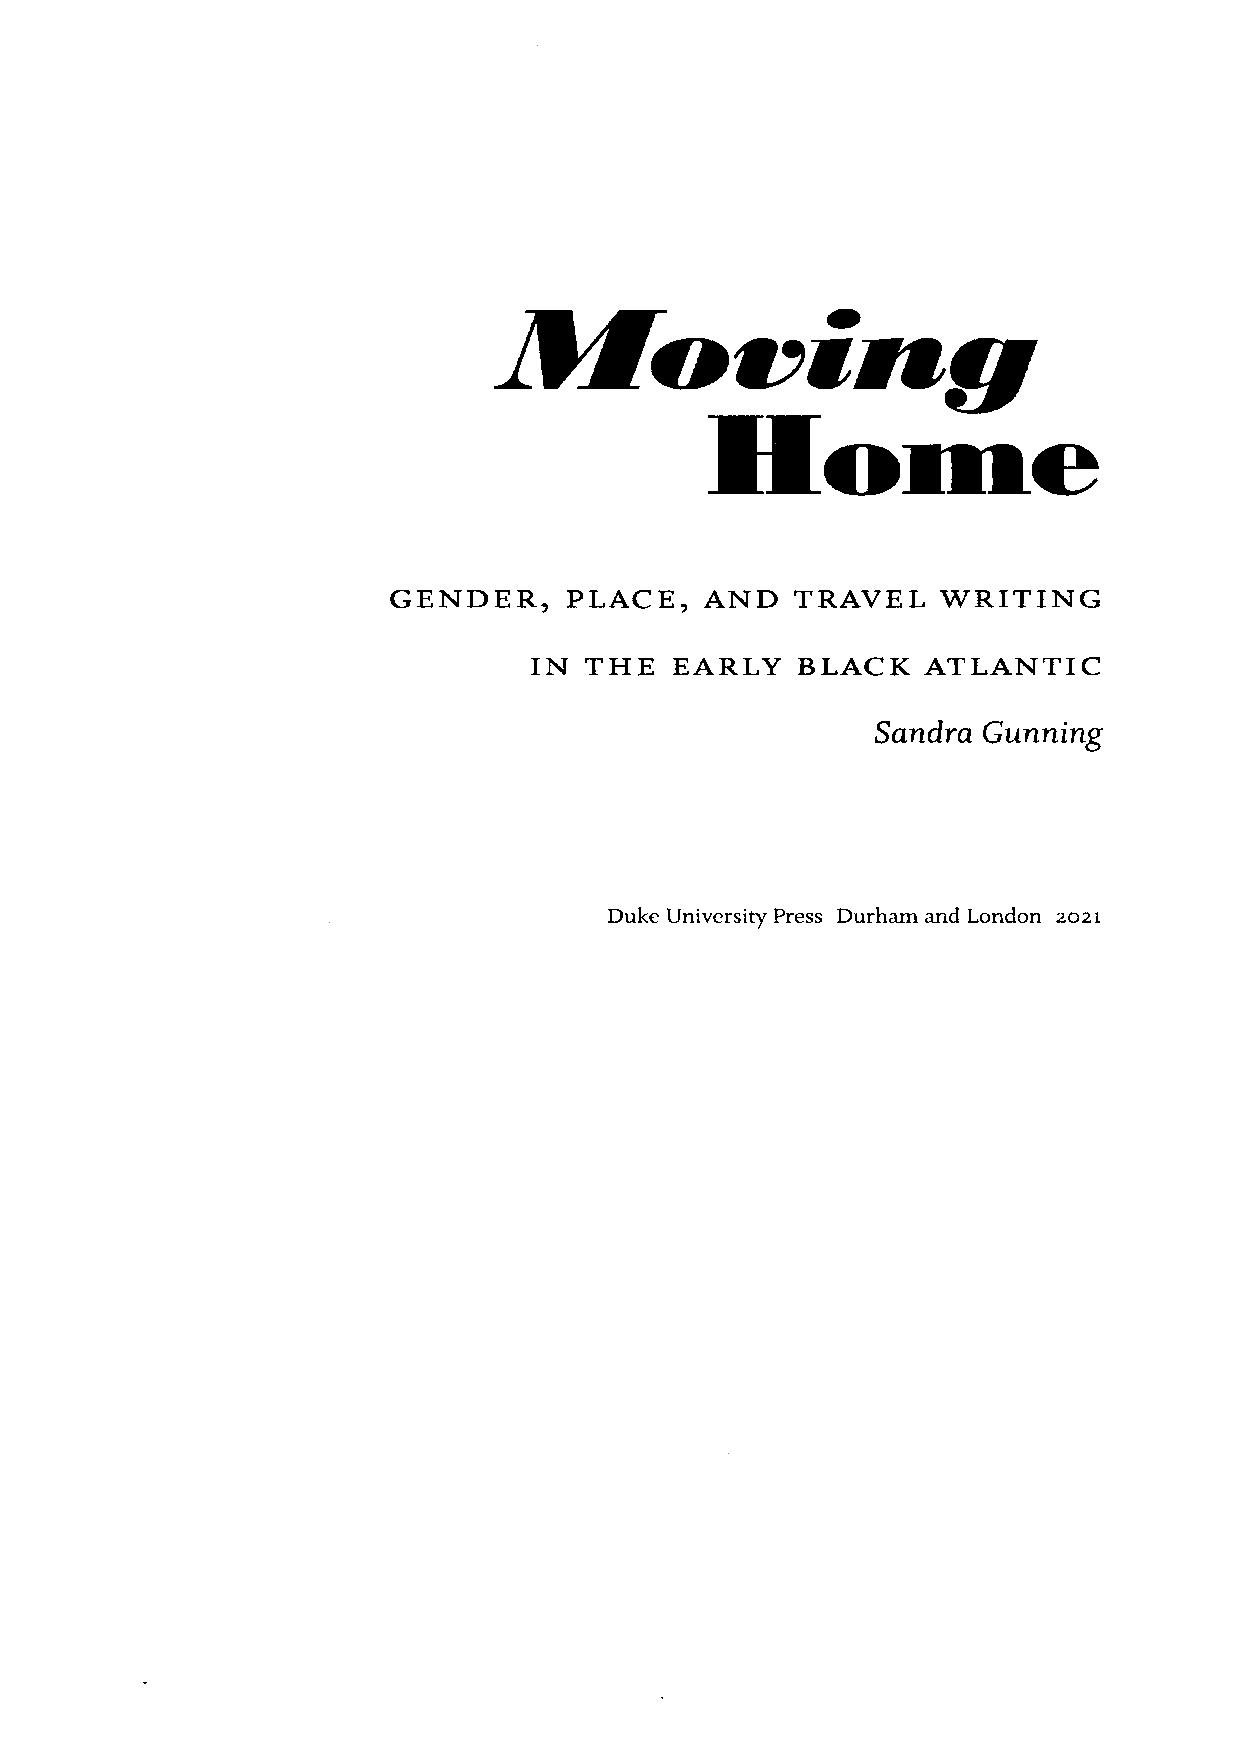author: (870, 717, 1100, 757)
title: (487, 305, 1100, 498)
